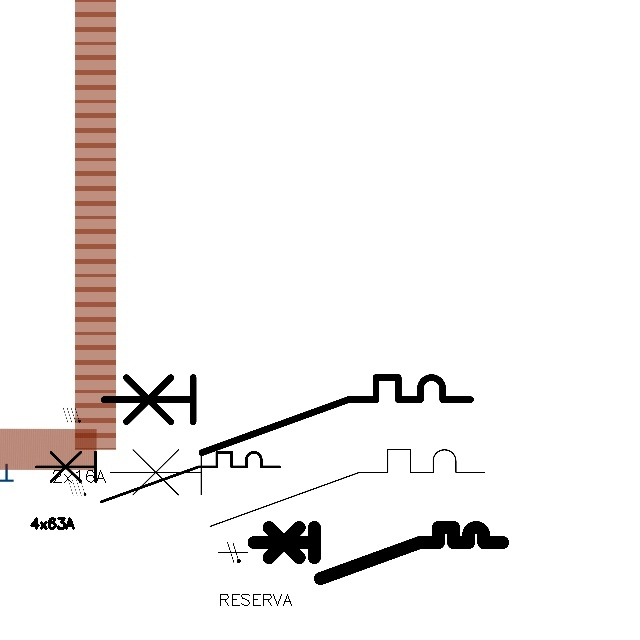interruptor_termomagnetico: (100, 440, 493, 536), (94, 368, 479, 462), (247, 521, 508, 585), (30, 446, 286, 508)
